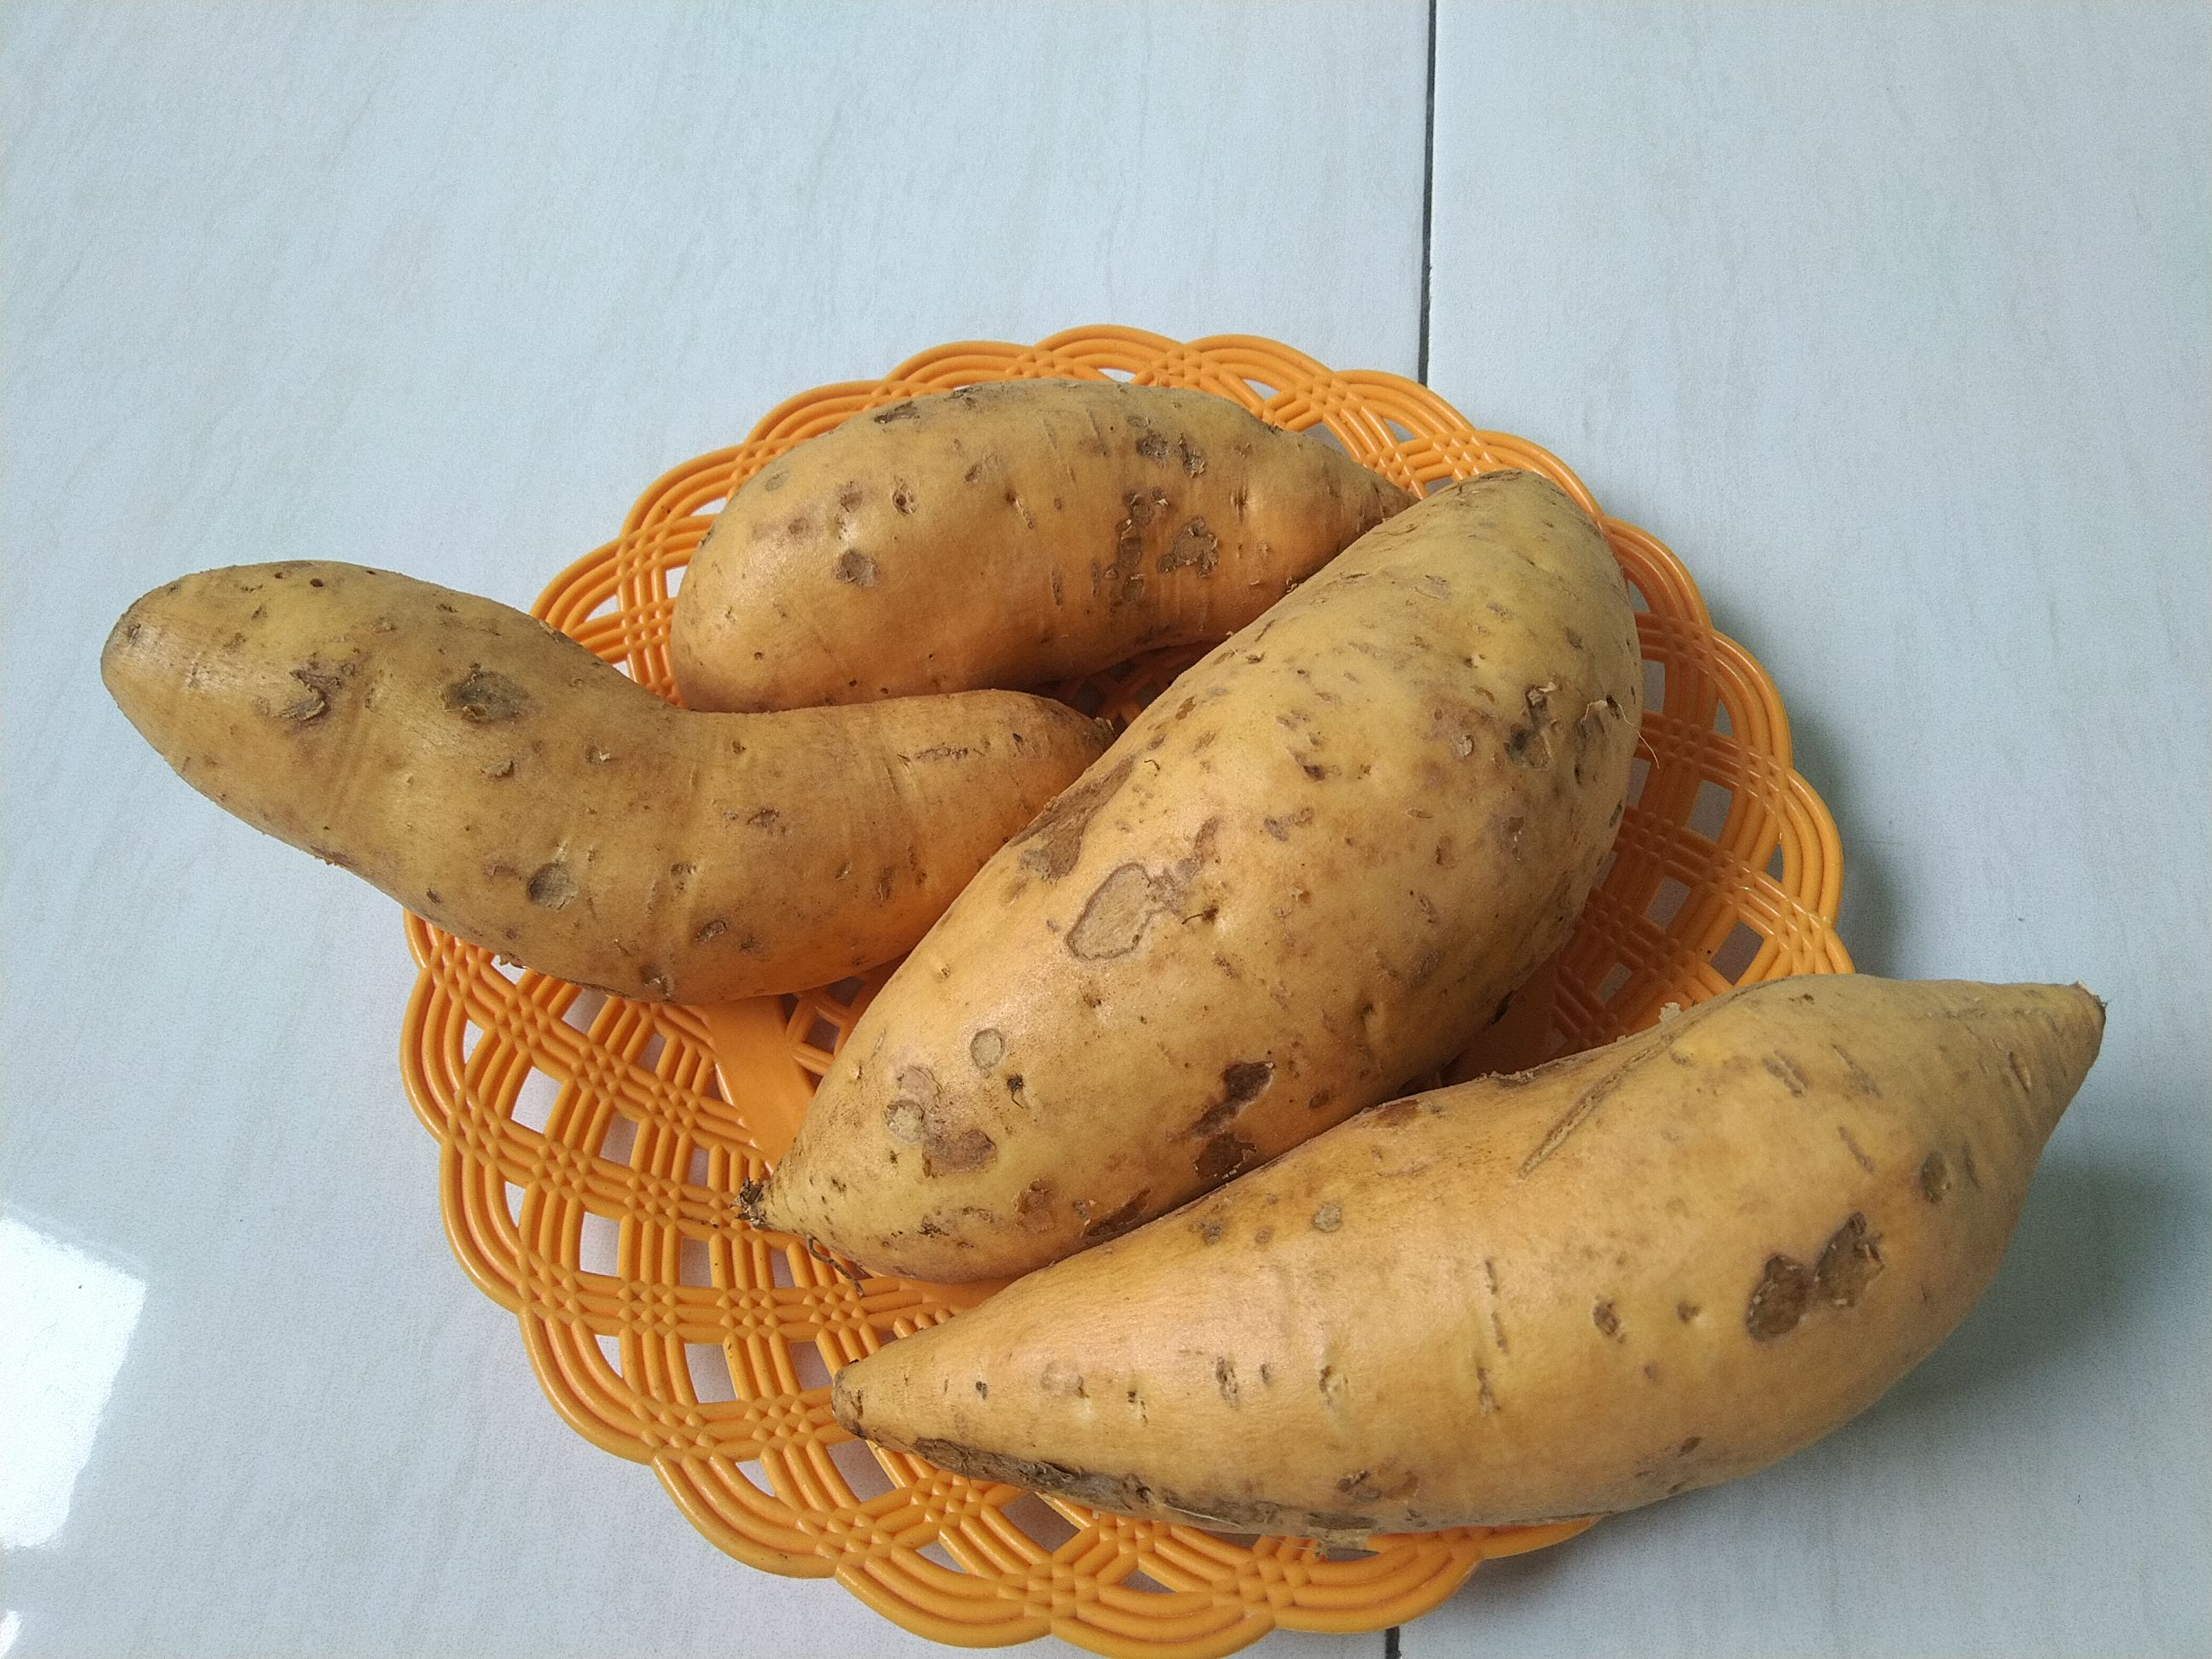ubi cilembu: (723, 460, 1695, 1295), (824, 981, 2158, 1540), (91, 549, 1136, 1016), (660, 390, 1435, 721)
